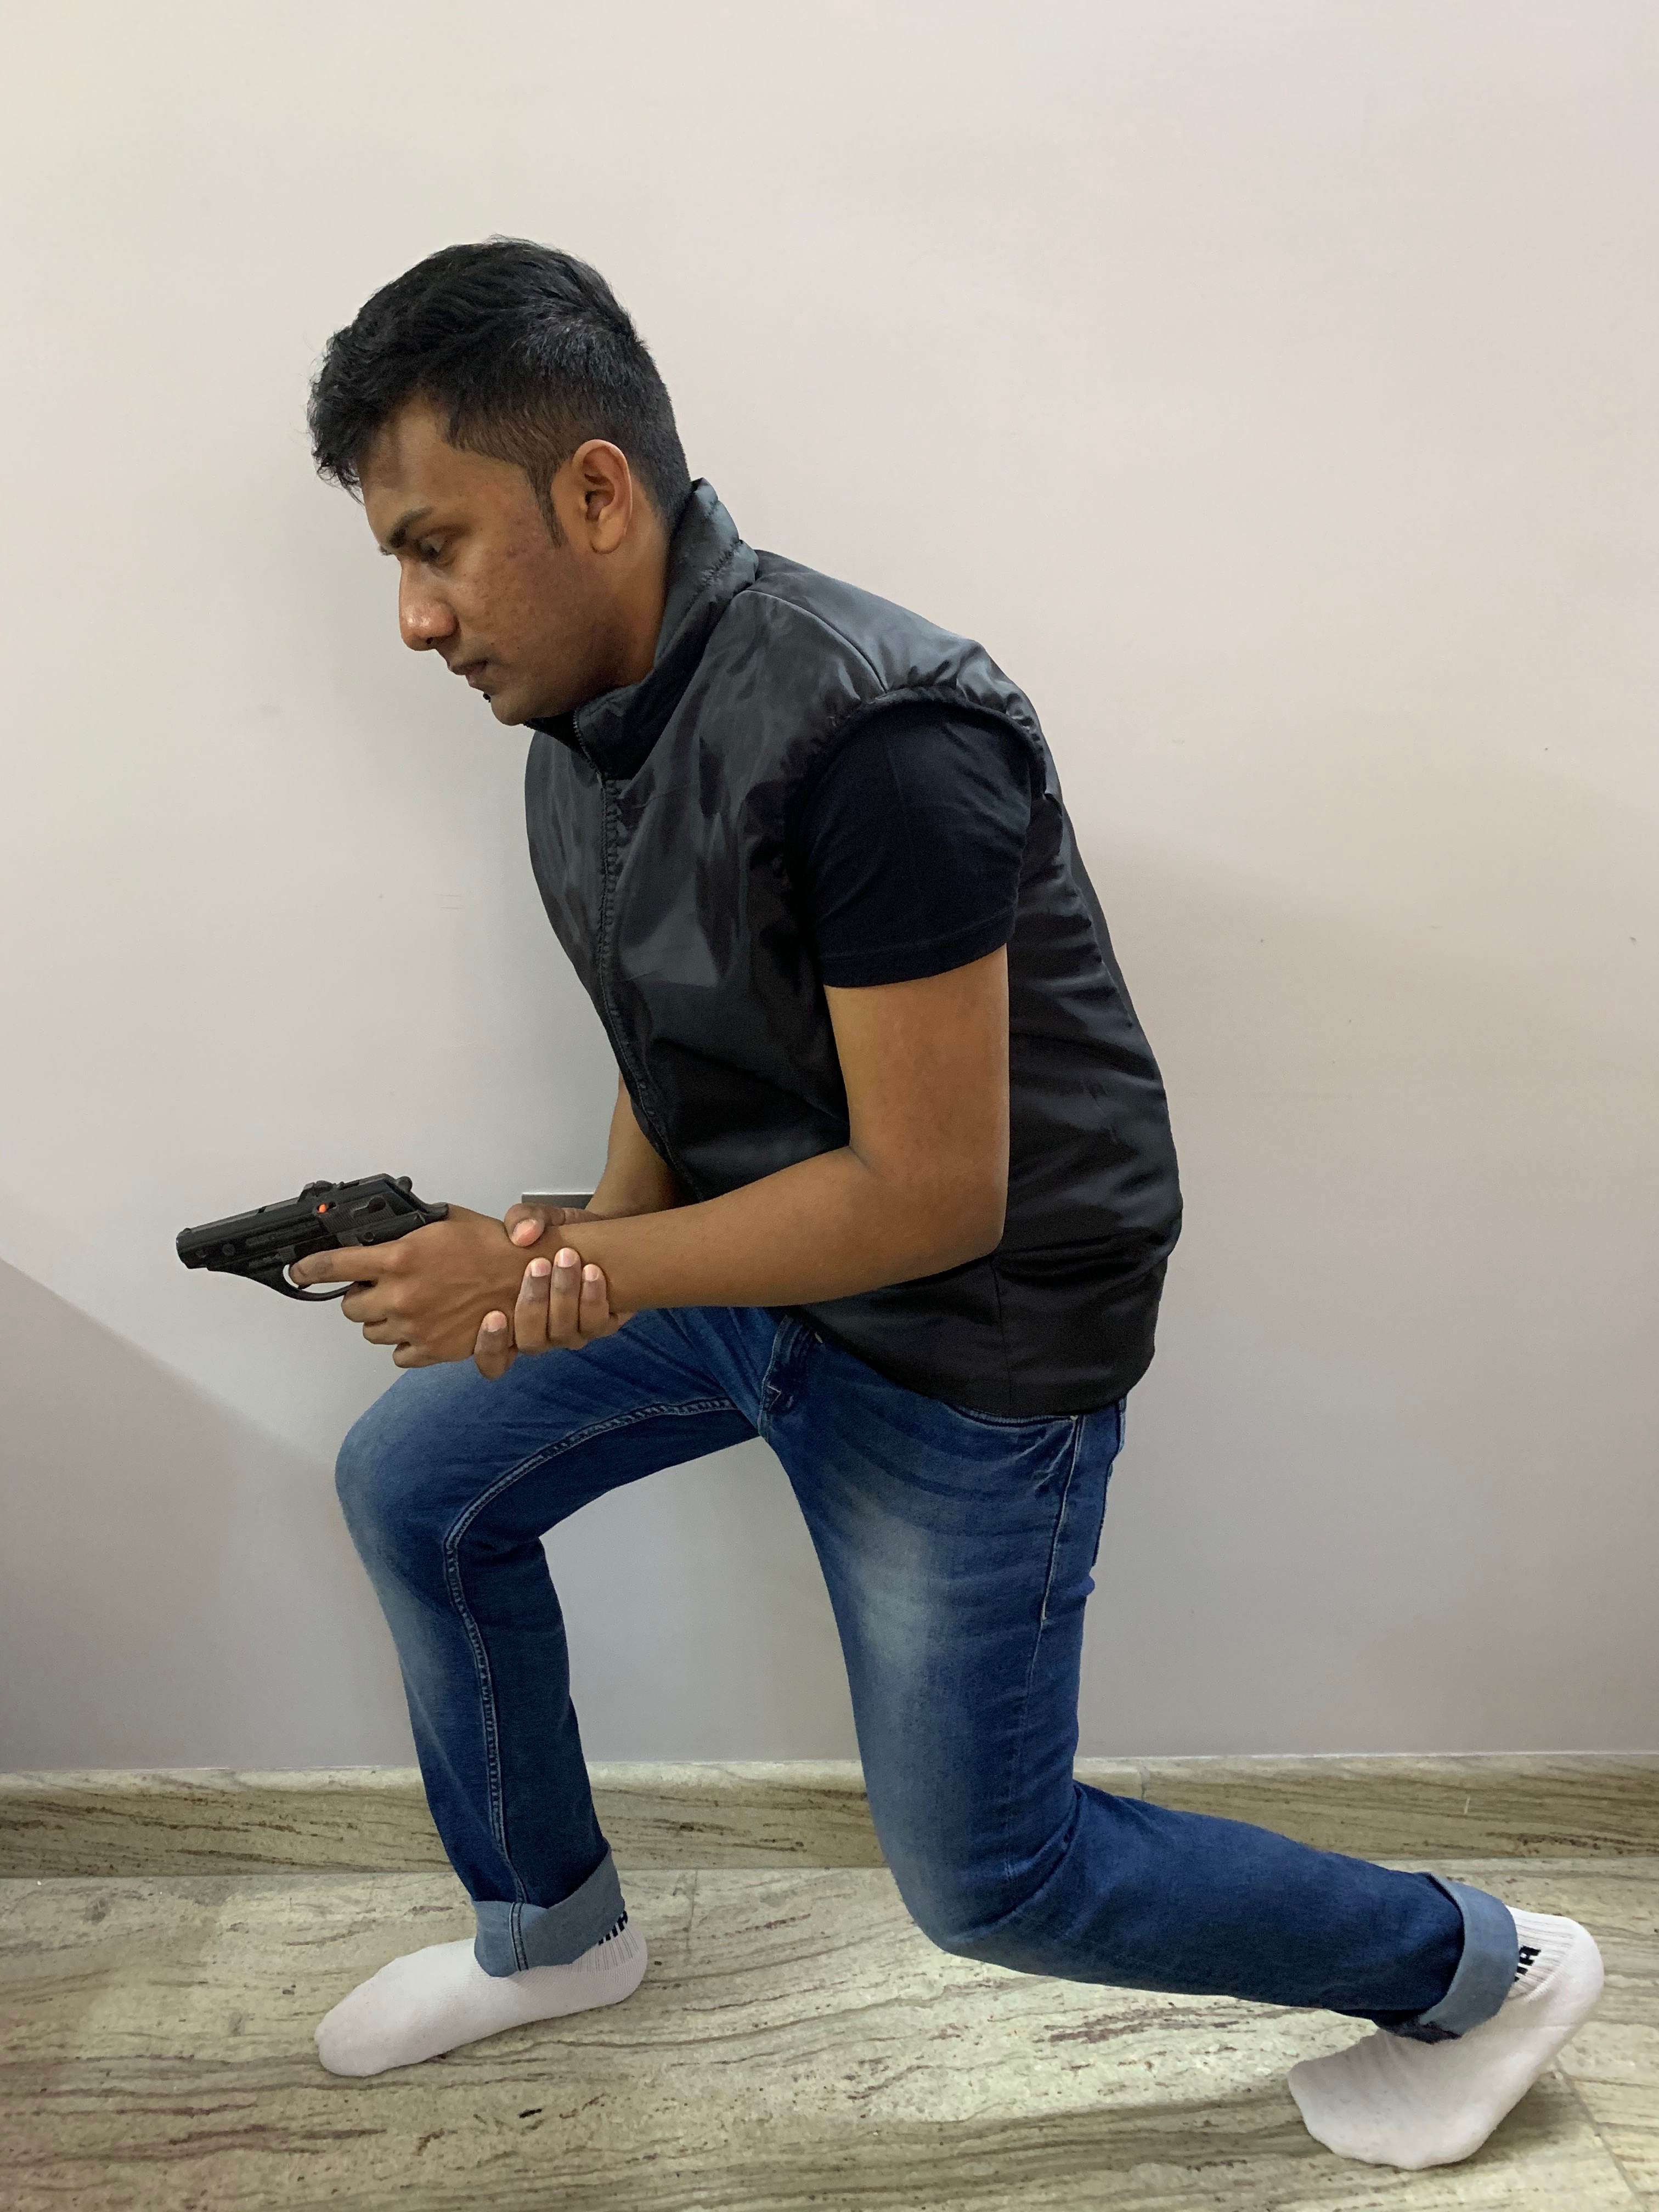gun: (171, 1172, 450, 1308)
